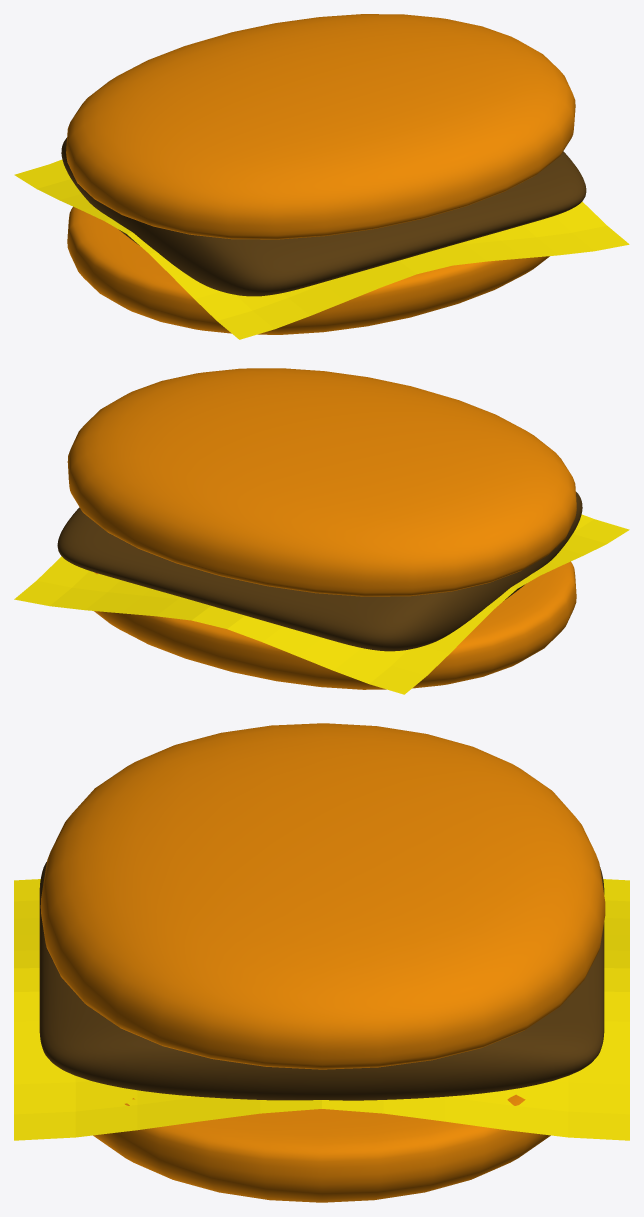
Rendered from hamburger.glb.
The picture shows the model from 3 angles, top to bottom: view 1: azimuth 30°, elevation 25°; view 2: azimuth 150°, elevation 25°; view 3: azimuth 270°, elevation 25°; orthographic projection. The views are drawn at different scales.
Visible parts, largest first — view 1: 立方体.002, 立方体, 立方体.001, 平面; view 2: 立方体.002, 立方体, 立方体.001, 平面; view 3: 立方体.002, 平面, 立方体, 立方体.001.
Boxes of the visible parts, left/top/right/bottom form: 立方体.002: left=66, top=14, right=575, bottom=239; 立方体: left=61, top=138, right=586, bottom=296; 立方体.001: left=67, top=206, right=549, bottom=334; 平面: left=14, top=159, right=629, bottom=339; 立方体.002: left=67, top=368, right=576, bottom=596; 立方体: left=57, top=492, right=582, bottom=651; 立方体.001: left=94, top=561, right=576, bottom=689; 平面: left=14, top=514, right=629, bottom=694; 立方体.002: left=40, top=723, right=605, bottom=1069; 平面: left=14, top=879, right=629, bottom=1140; 立方体: left=39, top=862, right=604, bottom=1100; 立方体.001: left=93, top=1094, right=550, bottom=1202.
Size of the model in its own units: 2.35 by 0.954 by 2.
